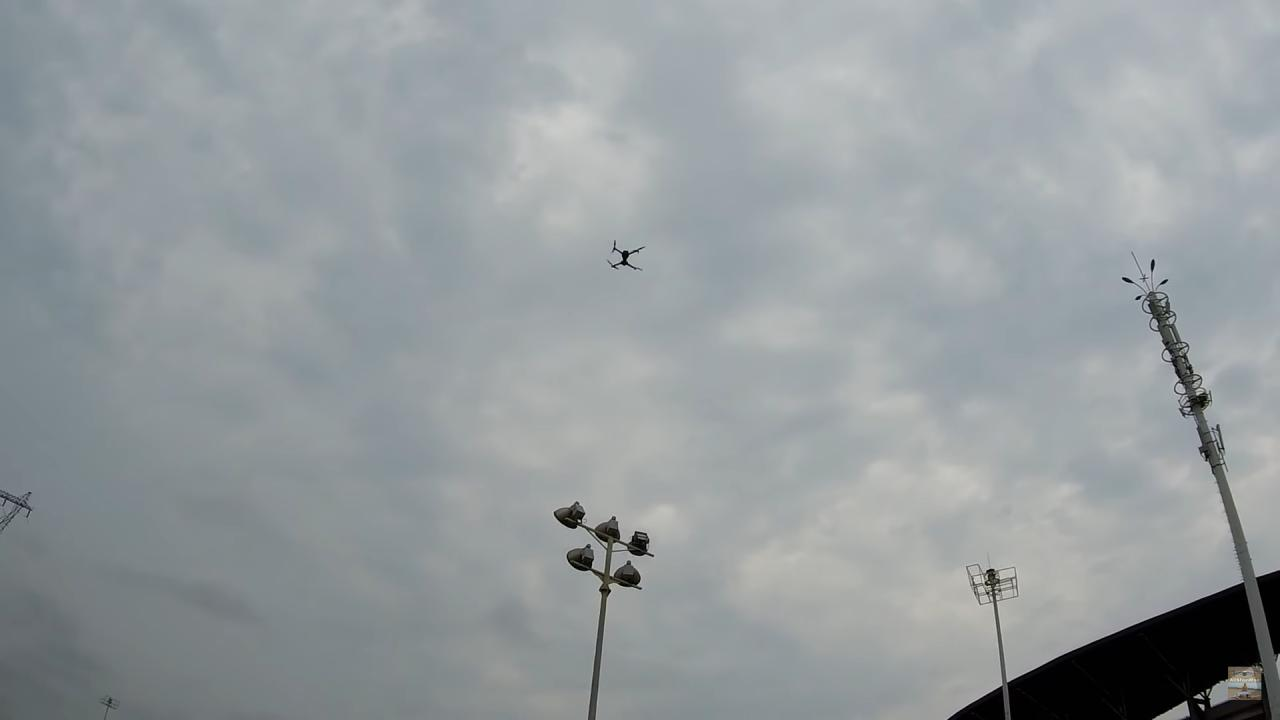Drone: (599, 232, 652, 278)
